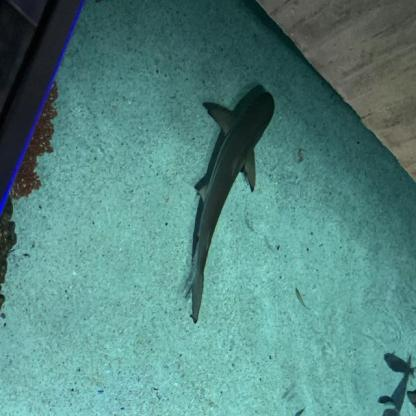fish: (384, 352, 416, 377)
shark: (181, 92, 275, 324)
